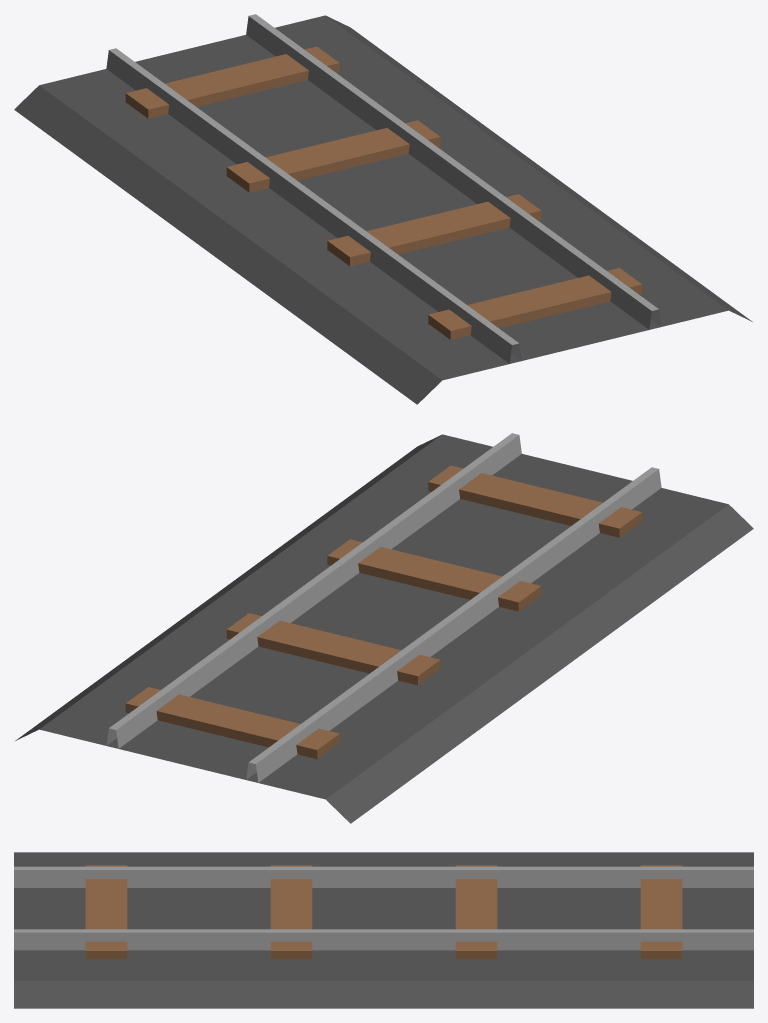
The model's file is 1_straight_half.fbx.
The picture shows the model from 3 angles, top to bottom: view 1: azimuth 30°, elevation 25°; view 2: azimuth 150°, elevation 25°; view 3: azimuth 270°, elevation 25°; orthographic projection. The views are drawn at different scales.
Visible parts, largest first — view 1: 1_straight_half; view 2: 1_straight_half; view 3: 1_straight_half.
Boxes of the visible parts, x1,y1,x2,y2 form: 1_straight_half: [14, 14, 752, 404]; 1_straight_half: [15, 433, 753, 823]; 1_straight_half: [14, 852, 753, 1008].
Size of the model in its own units: 1.93 by 0.2 by 4.
